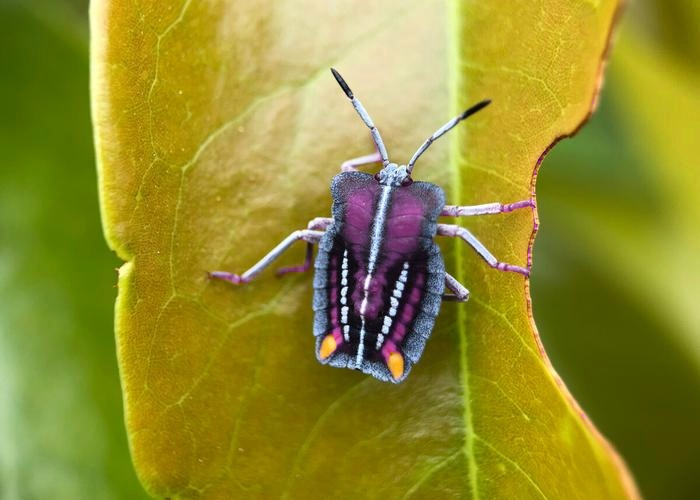Stink_Bug: (307, 122, 460, 385)
